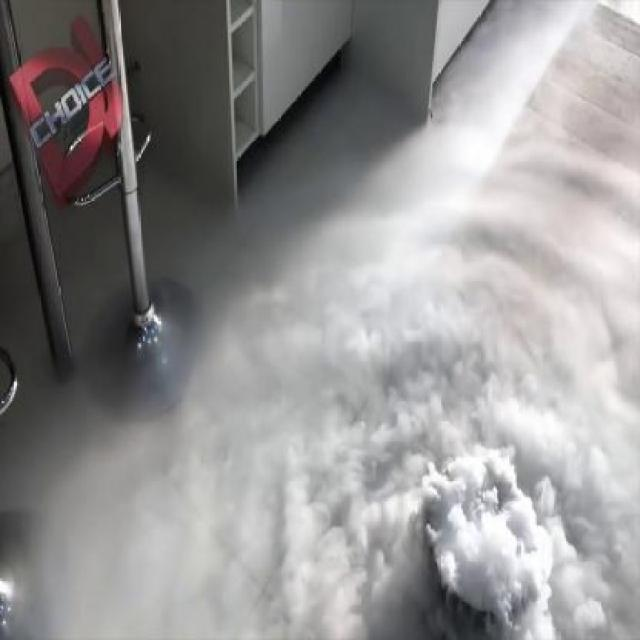smoke: (358, 365, 594, 630)
